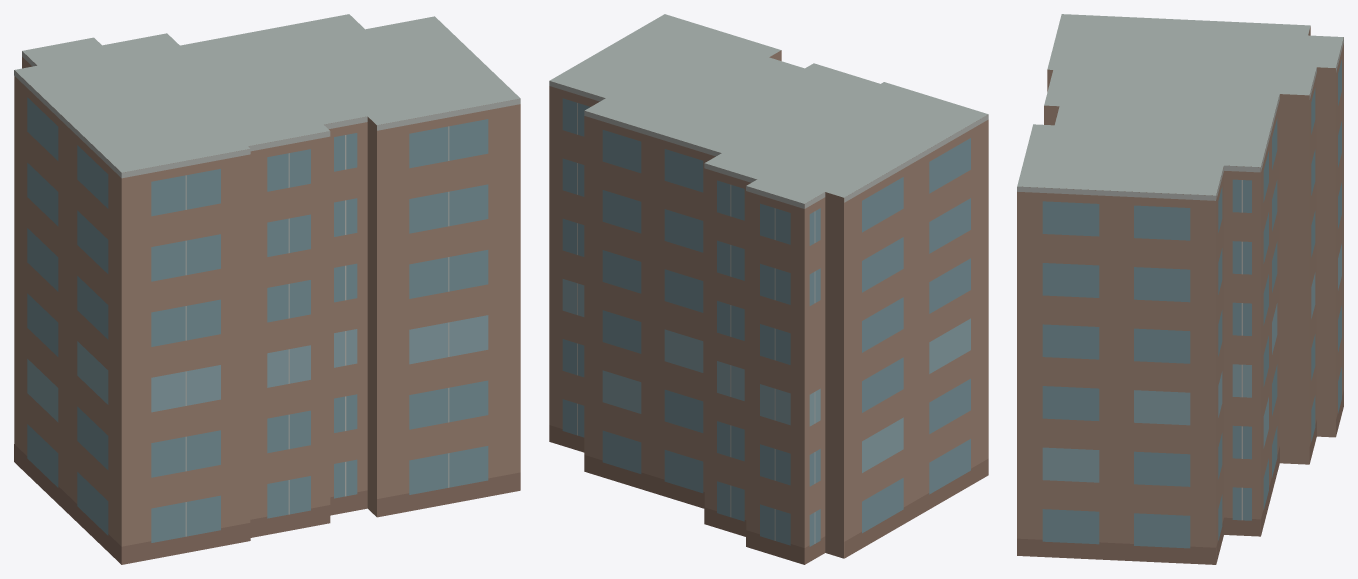
File: survey-upis-32652435.glb
3 renders of one model, left to right at view 1: azimuth 30°, elevation 25°; view 2: azimuth 150°, elevation 25°; view 3: azimuth 270°, elevation 25°, orthographic. The views are drawn at different scales.
Parts seen in each view (by area): view 1: survey-upis-32652435.tmp; view 2: survey-upis-32652435.tmp; view 3: survey-upis-32652435.tmp.
Boxes of the visible parts, left/top/right/bottom form: survey-upis-32652435.tmp: left=14, top=14, right=520, bottom=564; survey-upis-32652435.tmp: left=549, top=14, right=988, bottom=564; survey-upis-32652435.tmp: left=1017, top=14, right=1343, bottom=564.
Size of the model in its own units: 17.99 by 17.05 by 13.68.
